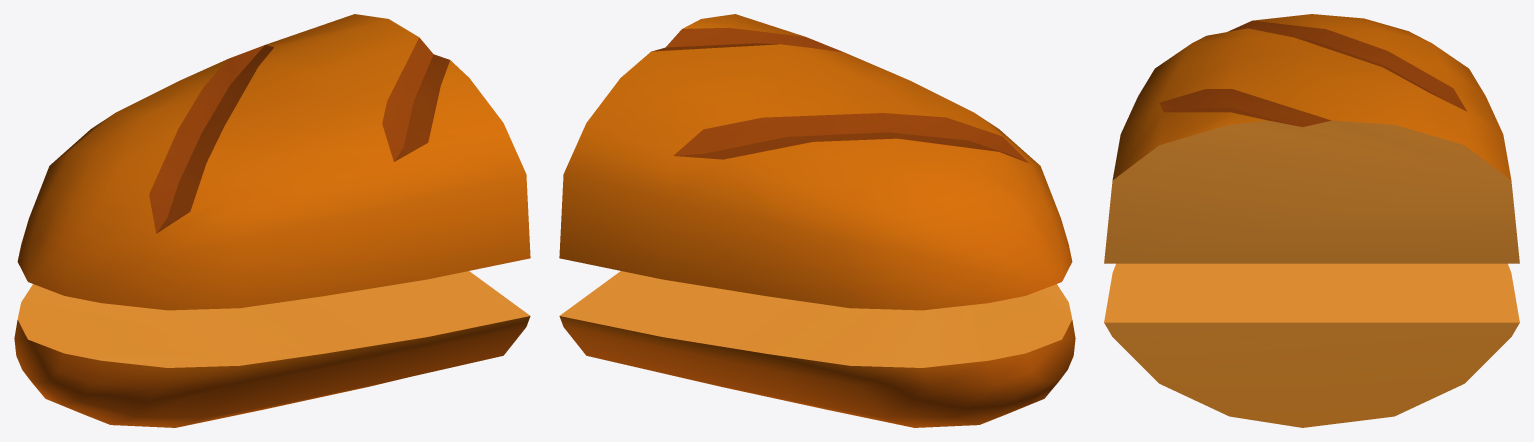
File: Sandwich_Loaf_top_half.003.fbx
The picture shows the model from 3 angles, left to right: view 1: azimuth 30°, elevation 25°; view 2: azimuth 150°, elevation 25°; view 3: azimuth 270°, elevation 25°; orthographic projection. The views are drawn at different scales.
Parts seen in each view (by area): view 1: Sandwich_Loaf_top_half.003, Sandwich_Loaf_Bottom_half.003; view 2: Sandwich_Loaf_top_half.003, Sandwich_Loaf_Bottom_half.003; view 3: Sandwich_Loaf_top_half.003, Sandwich_Loaf_Bottom_half.003.
Boxes of the visible parts, x1,y1,x2,y2 form: Sandwich_Loaf_top_half.003: [17, 14, 530, 310]; Sandwich_Loaf_Bottom_half.003: [14, 271, 530, 427]; Sandwich_Loaf_top_half.003: [559, 14, 1072, 310]; Sandwich_Loaf_Bottom_half.003: [559, 271, 1075, 427]; Sandwich_Loaf_top_half.003: [1104, 14, 1519, 263]; Sandwich_Loaf_Bottom_half.003: [1104, 263, 1519, 427].
Size of the model in its own units: 85.77 by 61.42 by 75.14.
